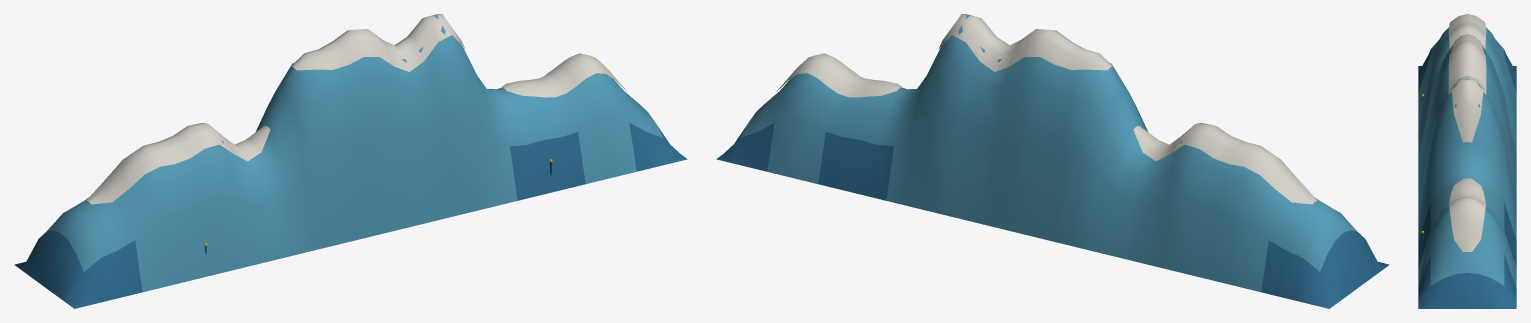
File: glacier_layered_ridge_v1.glb
The picture shows the model from 3 angles, left to right: view 1: azimuth 30°, elevation 25°; view 2: azimuth 150°, elevation 25°; view 3: azimuth 270°, elevation 25°; orthographic projection. The views are drawn at different scales.
Visible parts, largest first — view 1: glacier_layered_ridge_v1; view 2: glacier_layered_ridge_v1; view 3: glacier_layered_ridge_v1.
Boxes of the visible parts, <box> form: glacier_layered_ridge_v1: <box>14,14,687,308</box>; glacier_layered_ridge_v1: <box>716,14,1389,308</box>; glacier_layered_ridge_v1: <box>1418,14,1516,308</box>.
Bounding box in the file's own units: 96 × 27.17 × 16.4.
